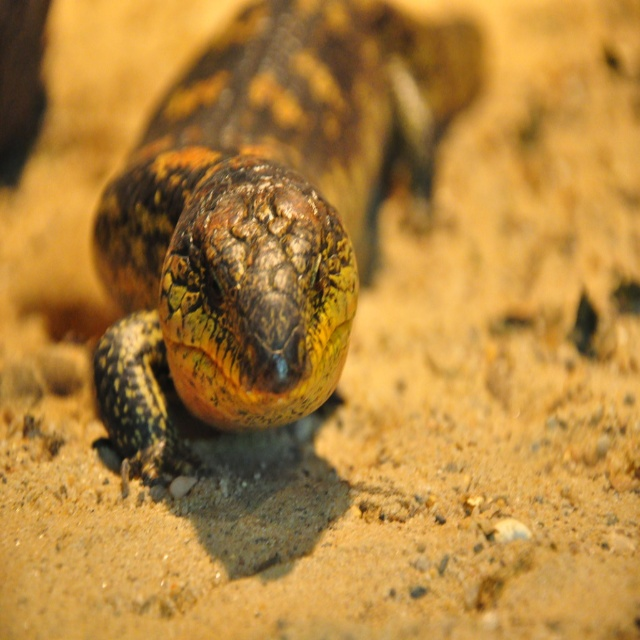Lizard: (92, 0, 487, 487)
